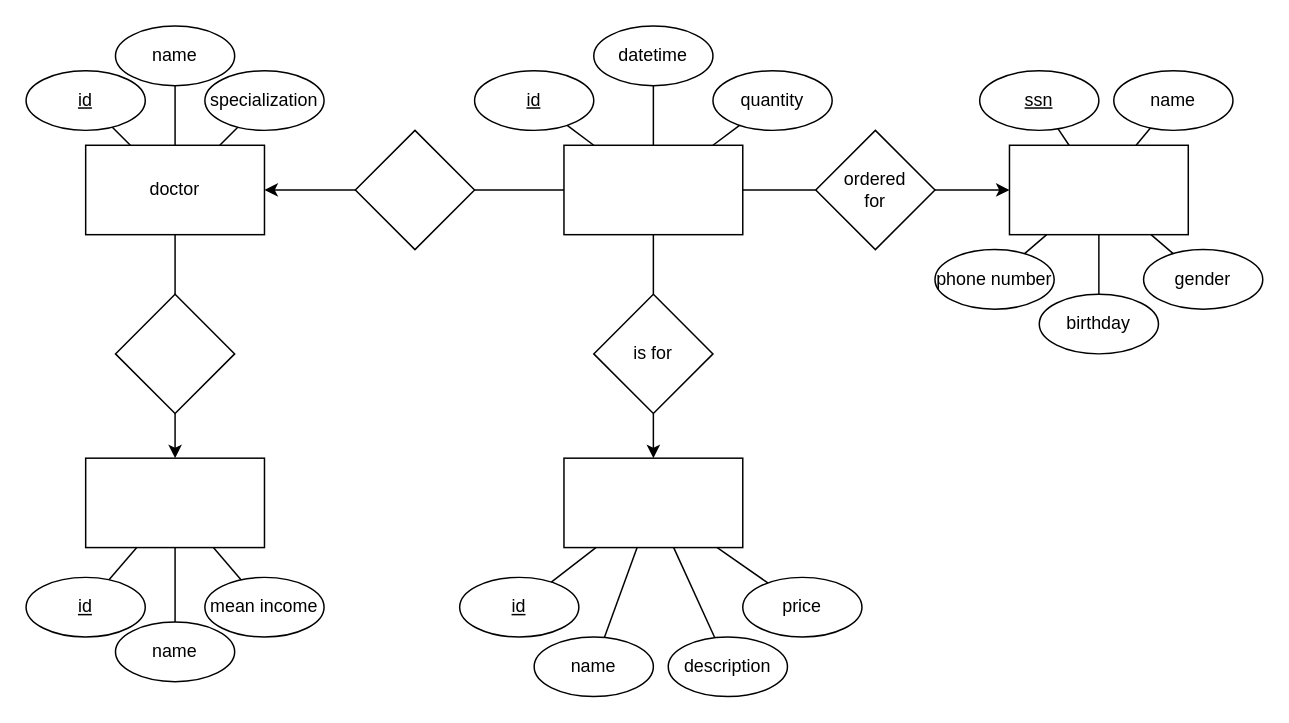
Some shapes in this 1289 by 723 pixel diagram are drawn without their labels. The box of each missing label's shape, as (x1, y1, x2, y2) in pixels:
area: (84, 457, 264, 548)
drug: (562, 457, 743, 548)
orders: (354, 129, 475, 250)
patient: (1008, 144, 1188, 235)
prescription: (562, 144, 743, 235)
works: (114, 293, 235, 413)
